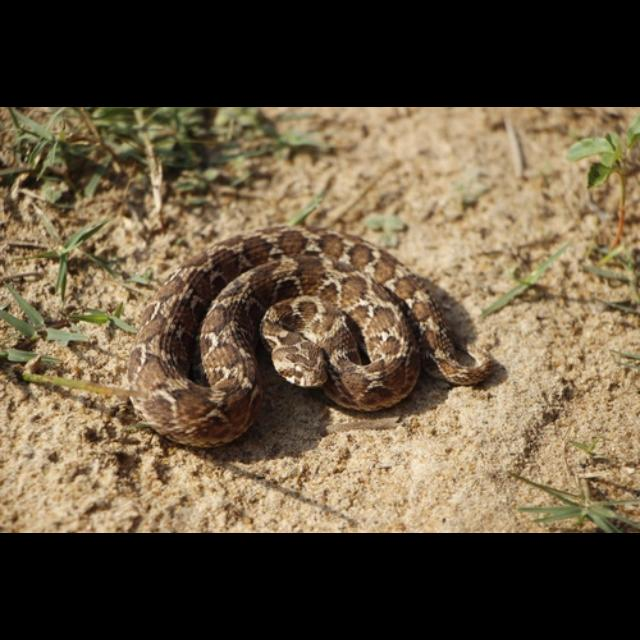snake: (118, 228, 508, 452)
